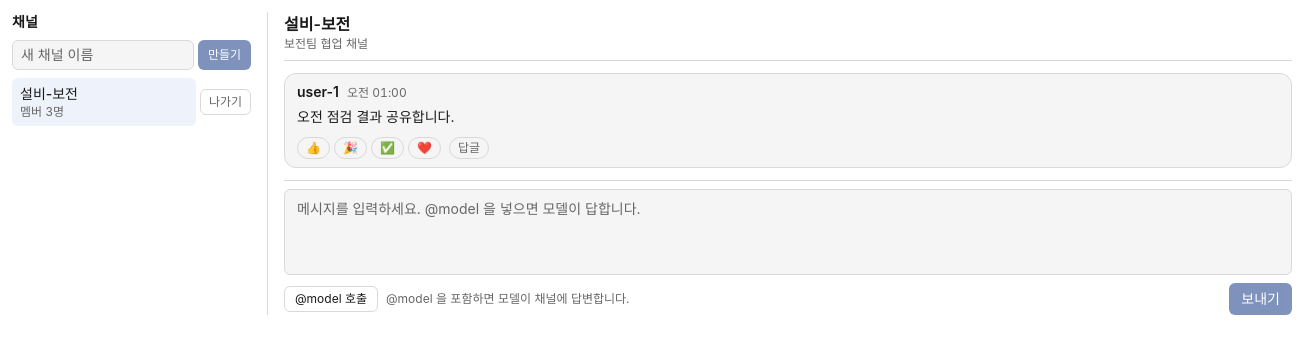
it: ChannelsWorkspace › 비멤버가 보내면 403 NOT_A_MEMBER 를 조용히 삼키지 않고 알린다
expect the text "오전 점검 결과 공유합니다." is shown: met, box [297,108,454,125]
Step 1. Type "안녕하세요" into the text box named "메시지 입력" → x=788, y=232, box [284,189,1292,275]
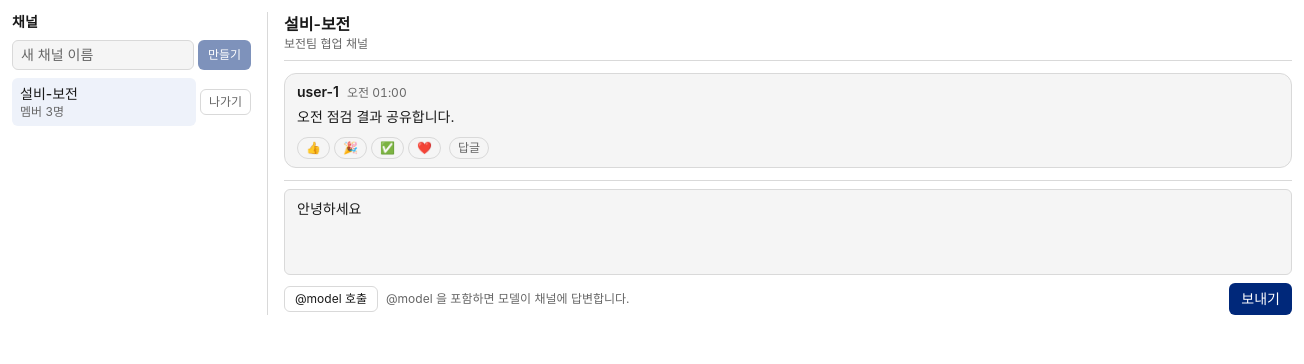
Step 2. Click the button with test id "channel-send" → x=1261, y=299, box [1229,283,1292,315]
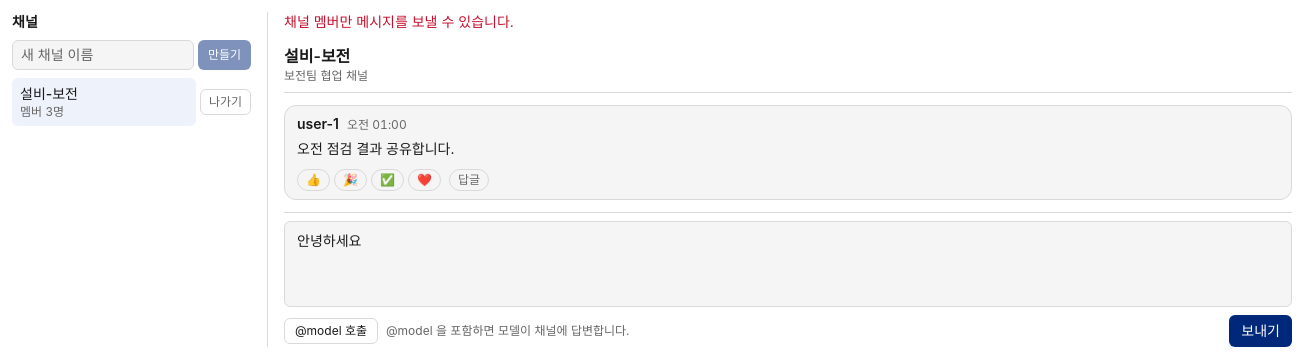
expect the message reads "채널 멤버만 메시지를 보낼 수 있습니다.": met, box [284,13,514,30]
